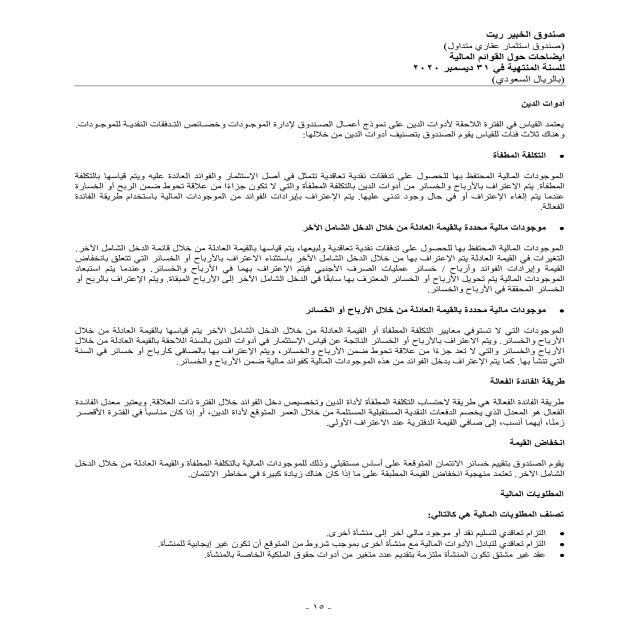notes: (436, 52, 567, 64)
text: (32, 94, 579, 566)
